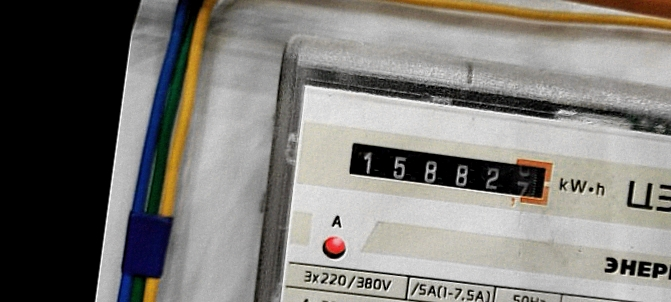1: (360, 148, 376, 176)
2: (484, 165, 503, 192)
5: (391, 153, 408, 181)
7: (514, 178, 531, 197)
8: (422, 157, 441, 184), (454, 162, 472, 188)
screen: (338, 130, 562, 215)
